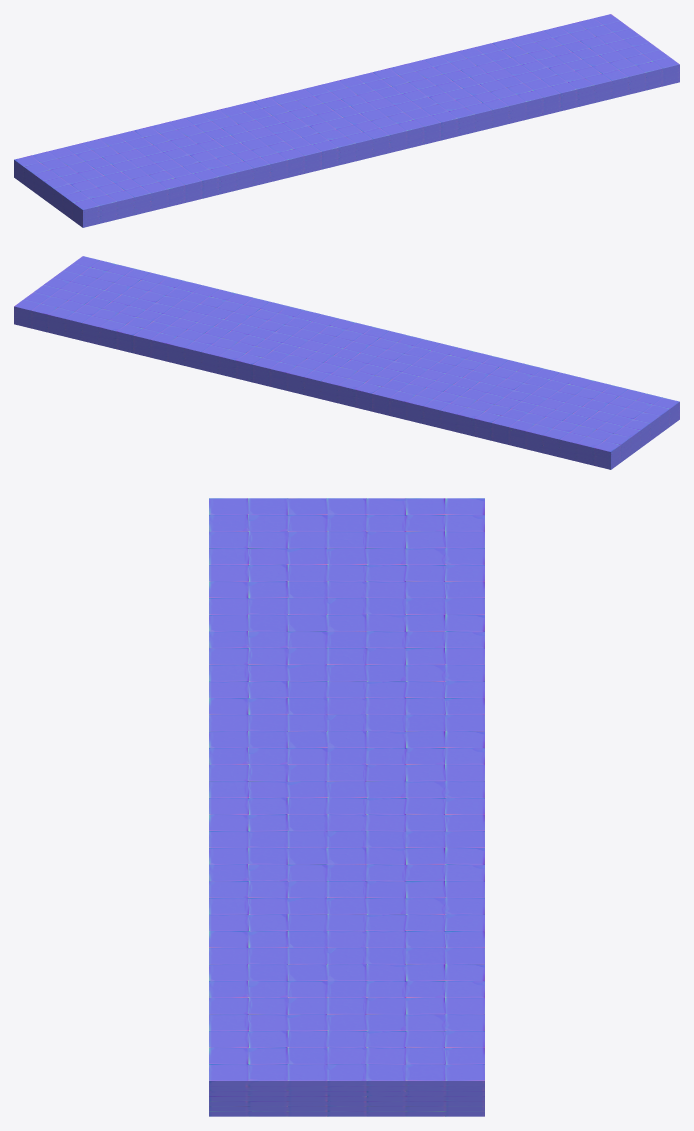
Rendered from GameObject.fbx.
3 renders of one model, top to bottom at view 1: azimuth 30°, elevation 25°; view 2: azimuth 150°, elevation 25°; view 3: azimuth 270°, elevation 25°, orthographic. The views are drawn at different scales.
Parts seen in each view (by area): view 1: GameObject; view 2: GameObject; view 3: GameObject.
Boxes of the visible parts, x1,y1,x2,y2 form: GameObject: (14,14,679,227); GameObject: (14,256,679,469); GameObject: (209,498,484,1116).
Size of the model in its own units: 3500 by 100 by 700.
